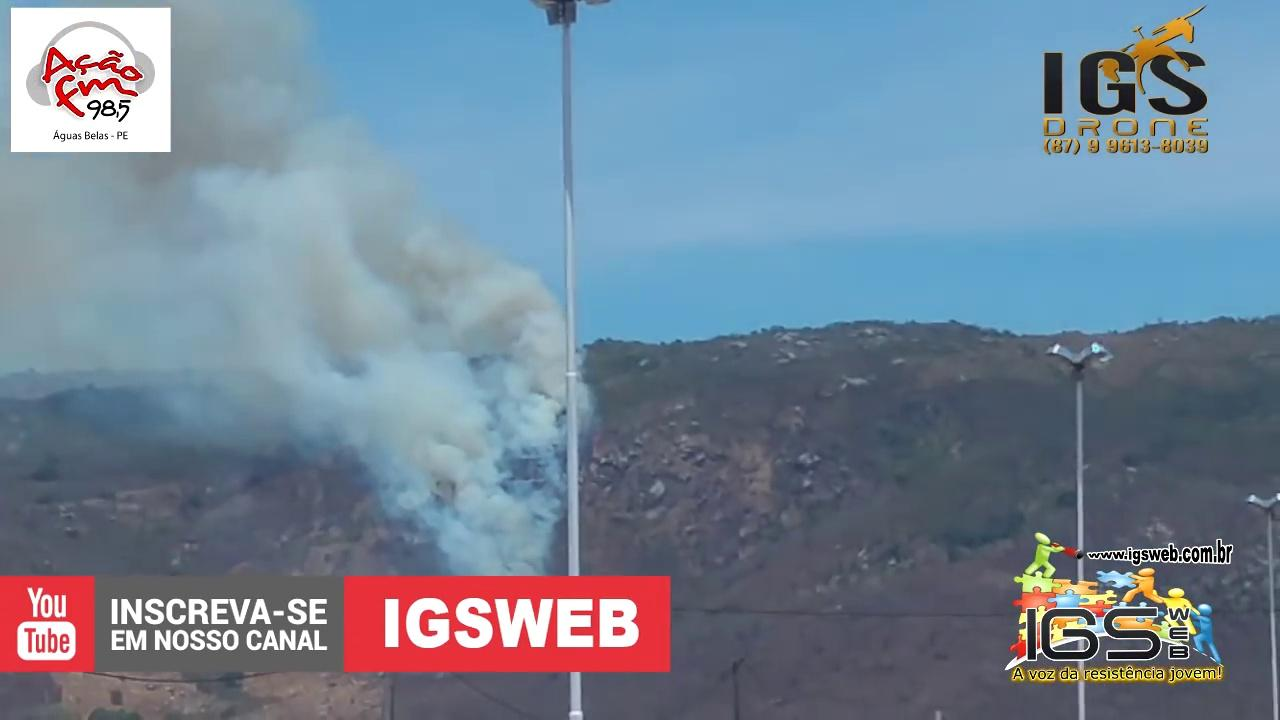smoke: (214, 198, 464, 450)
